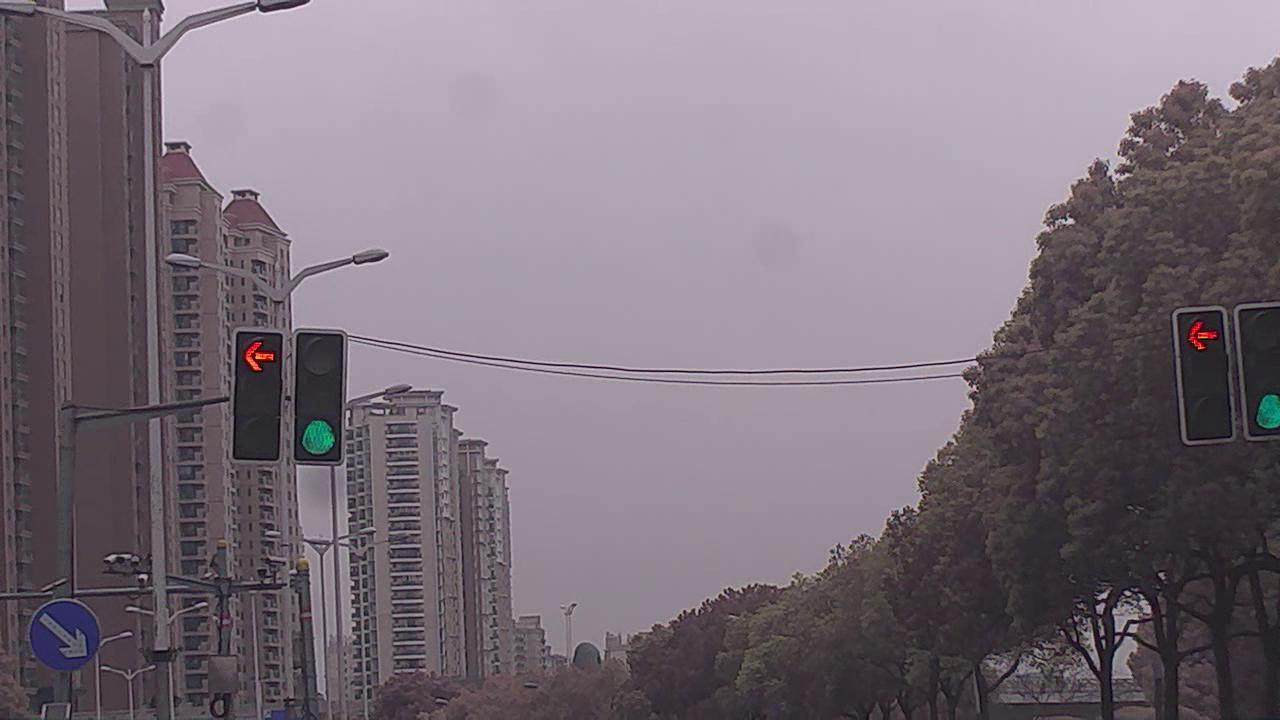traffic_light: (1174, 312, 1234, 441), (237, 327, 288, 461), (300, 330, 342, 457), (1238, 310, 1280, 433)
